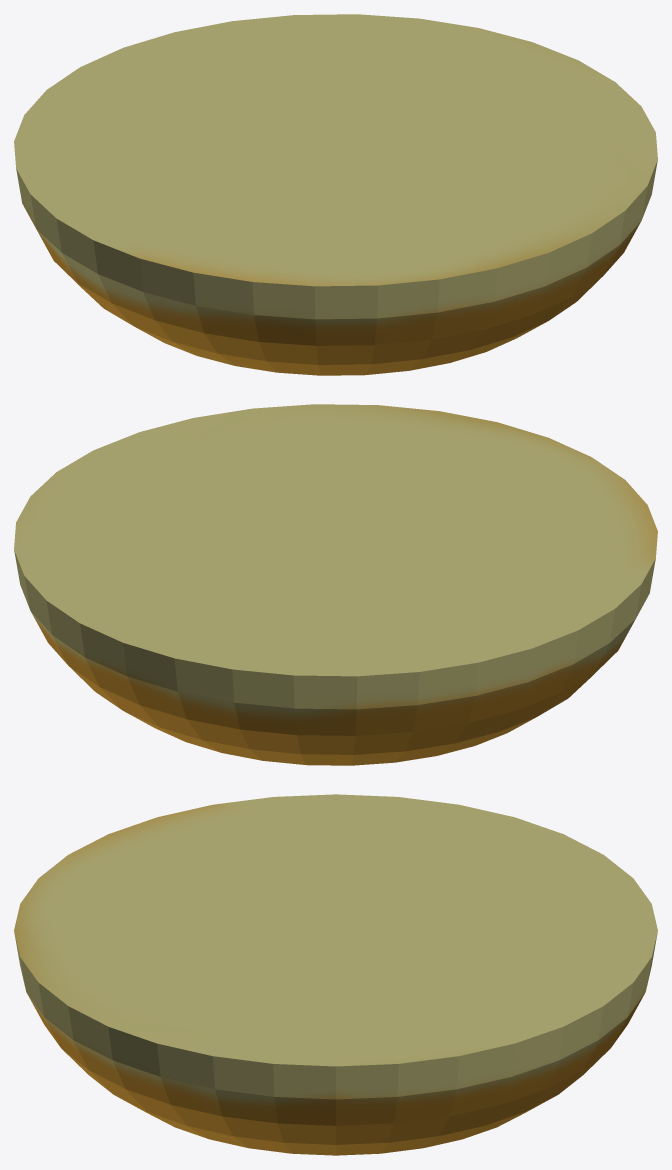
The model's file is BurgerBunBot.fbx.
The picture shows the model from 3 angles, top to bottom: view 1: azimuth 30°, elevation 25°; view 2: azimuth 150°, elevation 25°; view 3: azimuth 270°, elevation 25°; orthographic projection.
Parts seen in each view (by area): view 1: Sphere; view 2: Sphere; view 3: Sphere.
Part boxes in pixels (<box>): Sphere: <box>14,14,657,375</box>; Sphere: <box>14,404,657,765</box>; Sphere: <box>14,794,657,1155</box>.
Bounding box in the file's own units: 320 × 70.71 × 320.
1 material, 1 textured.
